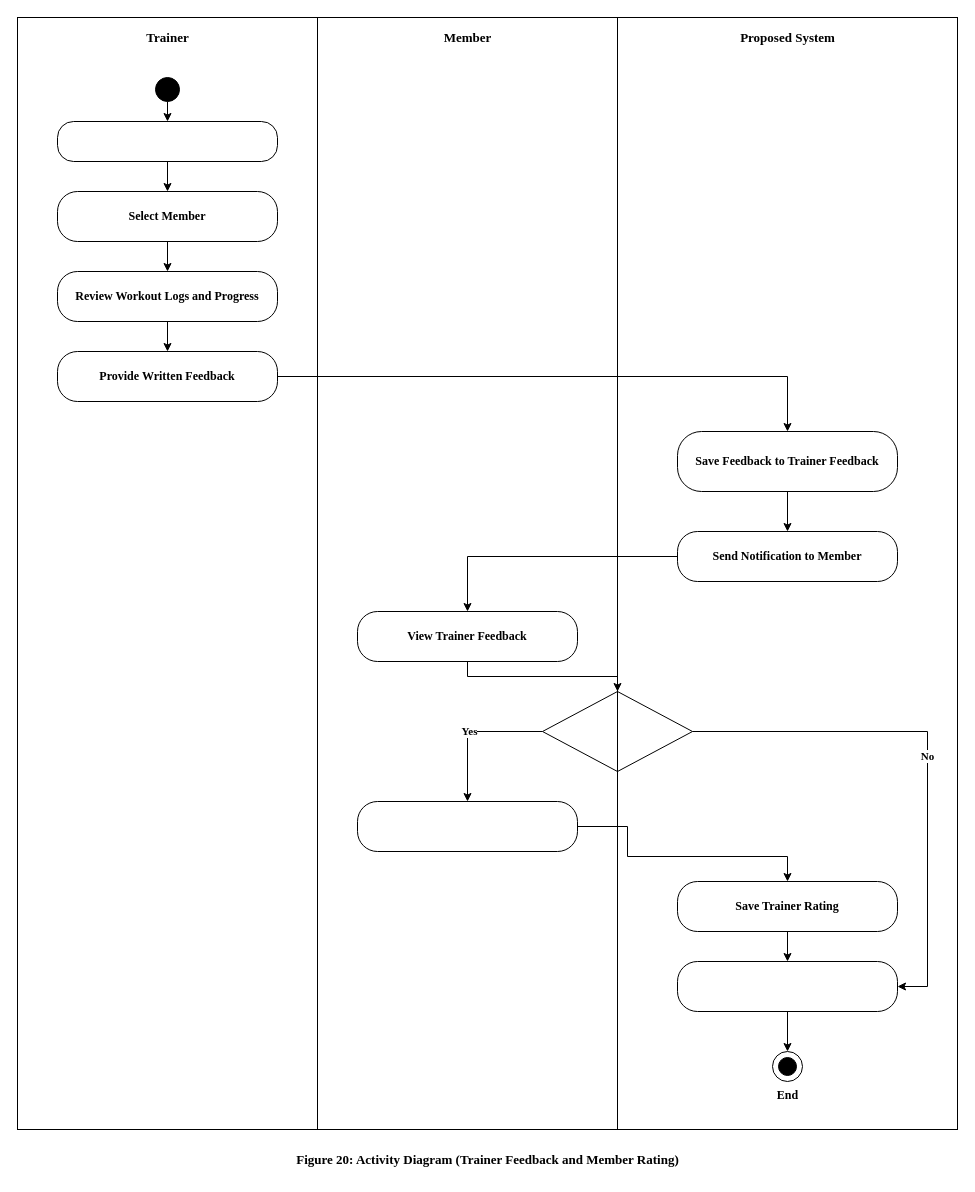
The diagram is 975 pixels wide and 1192 high, and some of its shapes have lost their labels. Each missing label, with the box of its shape:
Display Feedback Confirmation: (676, 960, 898, 1012)
Provide Star Rating (1-5): (356, 800, 578, 852)
Rate the Trainer?: (542, 690, 692, 772)
Start: (56, 120, 278, 162)
